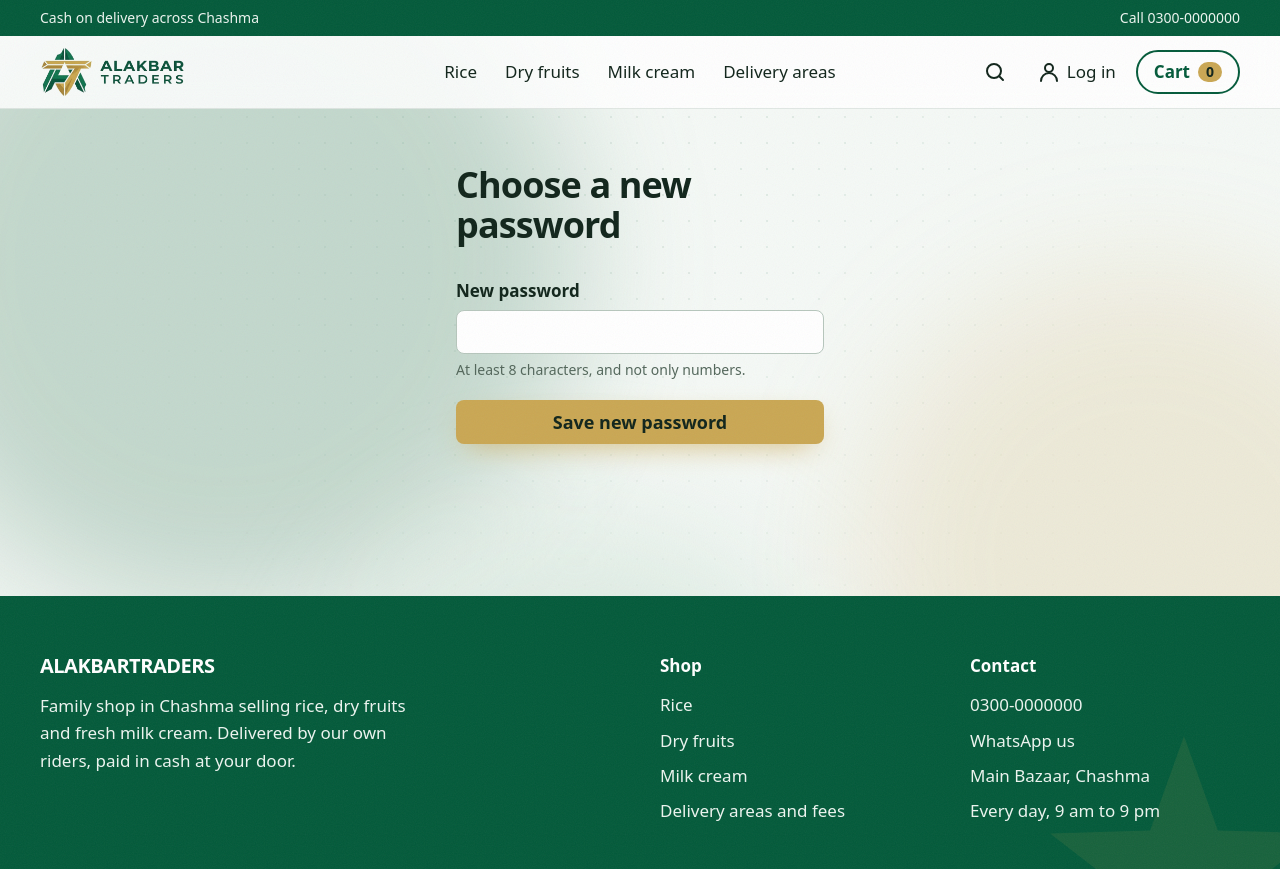
it: password reset › offers a new link when the link is wrong or used
Type "New-Kainat-Rice-9" into the password field labelled "New password".
click(640, 332); type("New-Kainat-Rice-9")  # box [456,310,824,354]
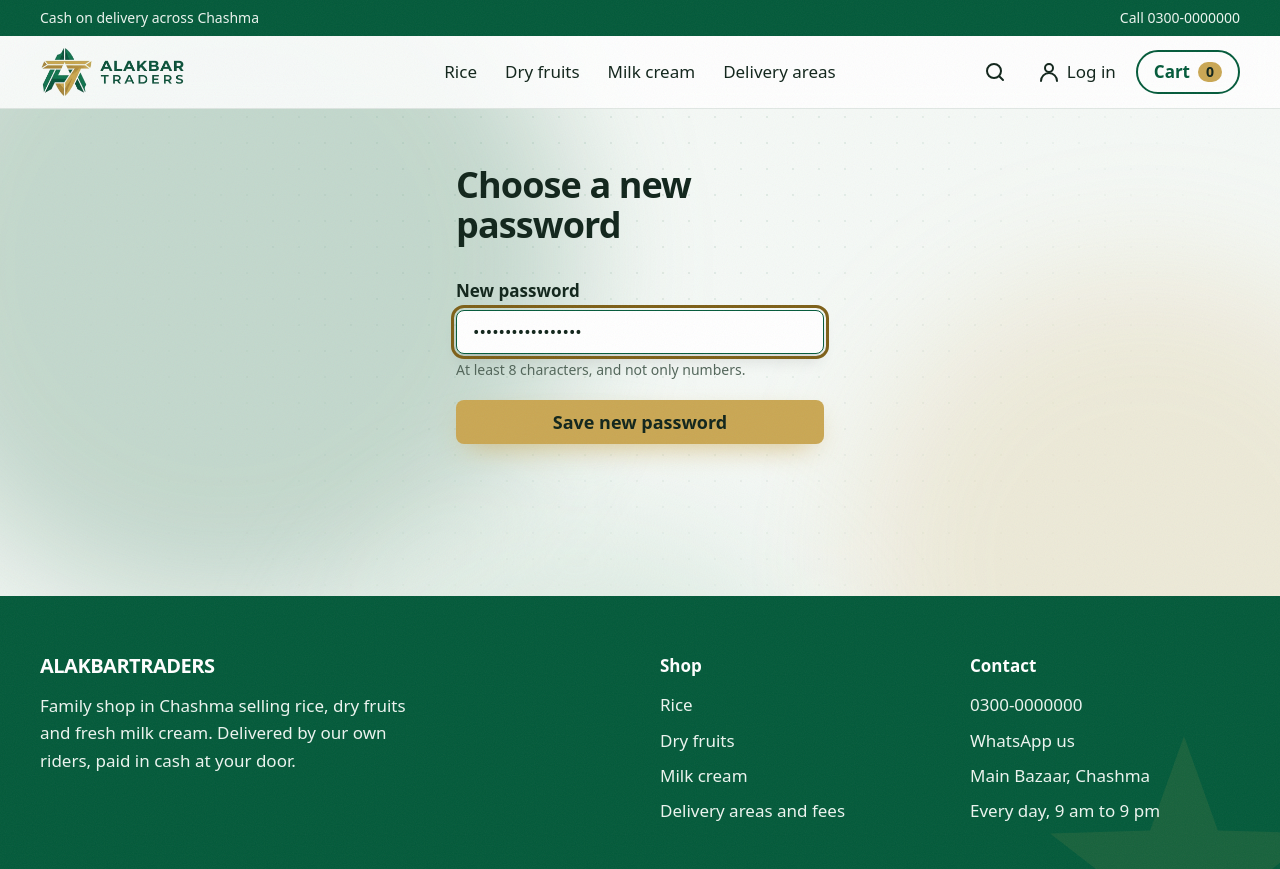
Click the button "Save new password".
click(640, 422)  # box [456,400,824,444]
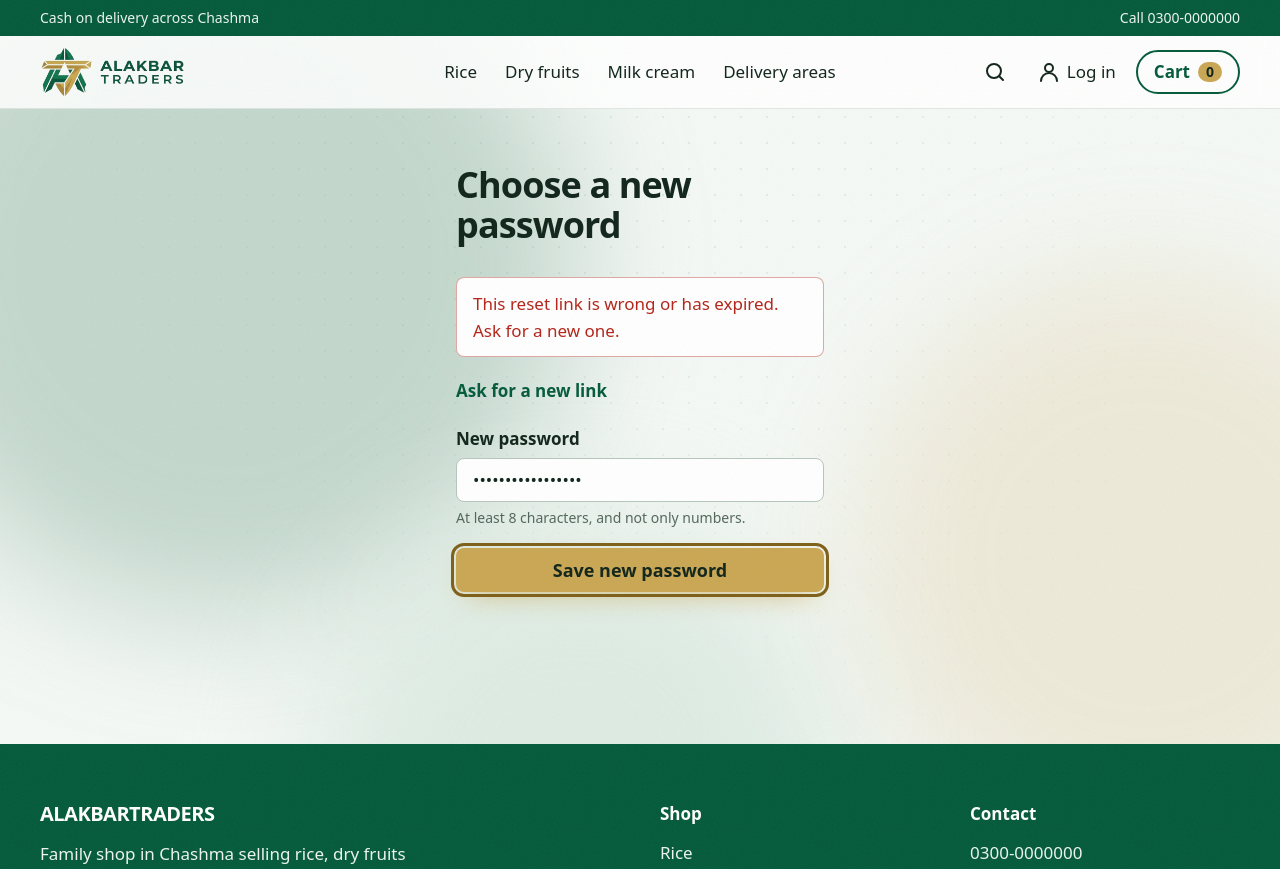
Check: the message shows "wrong or has expired", box [473,292,779,342]
